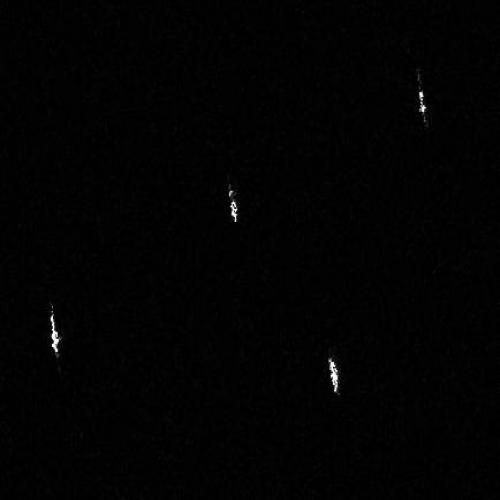ship: (327, 356, 340, 396), (49, 312, 60, 356), (228, 189, 239, 224), (418, 90, 427, 117)
